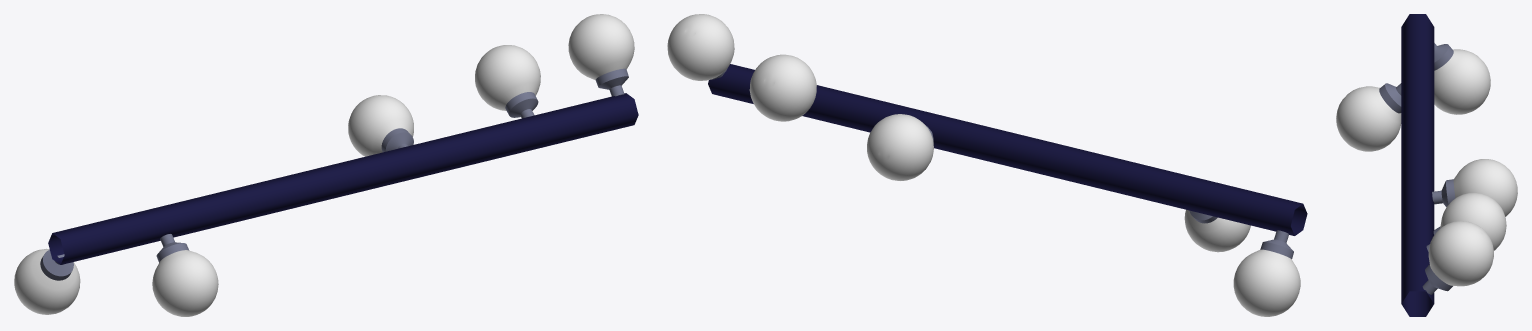
Rendered from Guirlande doite.fbx.
3 views of the same model, side by side, from view 1: azimuth 30°, elevation 25°; view 2: azimuth 150°, elevation 25°; view 3: azimuth 270°, elevation 25° (orthographic). The views are drawn at different scales.
Visible parts, largest first — view 1: BézierCurve; view 2: BézierCurve; view 3: BézierCurve.
Boxes of the visible parts, <box> form: BézierCurve: <box>14,14,638,316</box>; BézierCurve: <box>667,14,1307,316</box>; BézierCurve: <box>1336,14,1517,316</box>.
Size of the model in its own units: 55.4 by 214 by 52.56.
